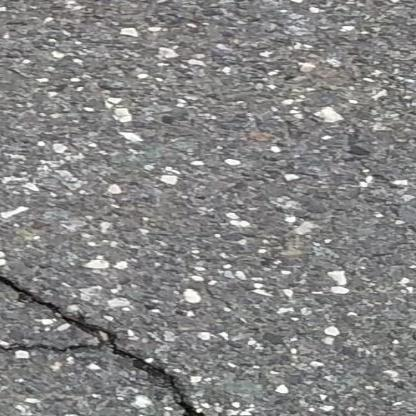Cracks: (0, 228, 255, 416)
